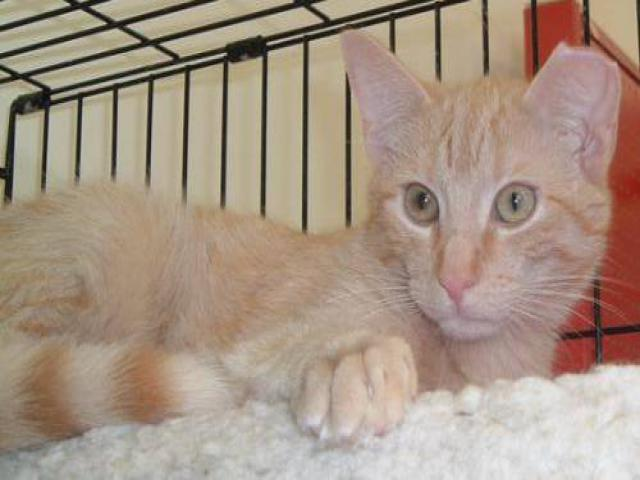cat: (7, 30, 626, 457)
